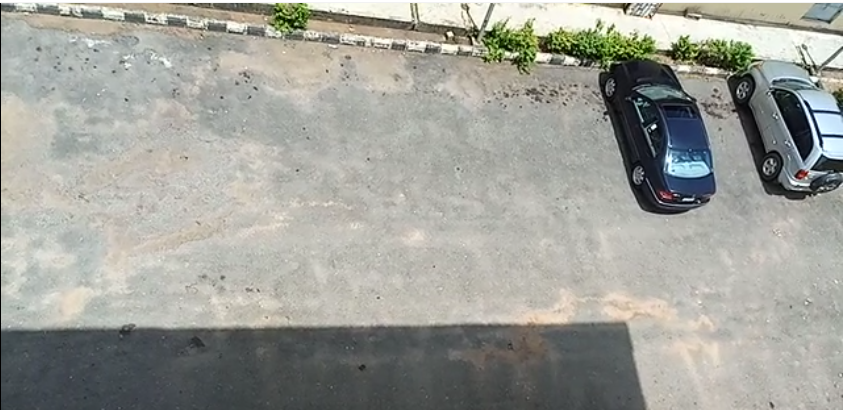three: (361, 20, 485, 215)
two: (185, 3, 322, 215)
